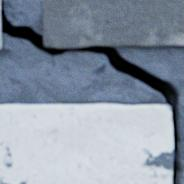brick: (0, 103, 172, 183), (43, 0, 183, 47), (0, 29, 1, 48)
crack: (0, 0, 181, 183)
